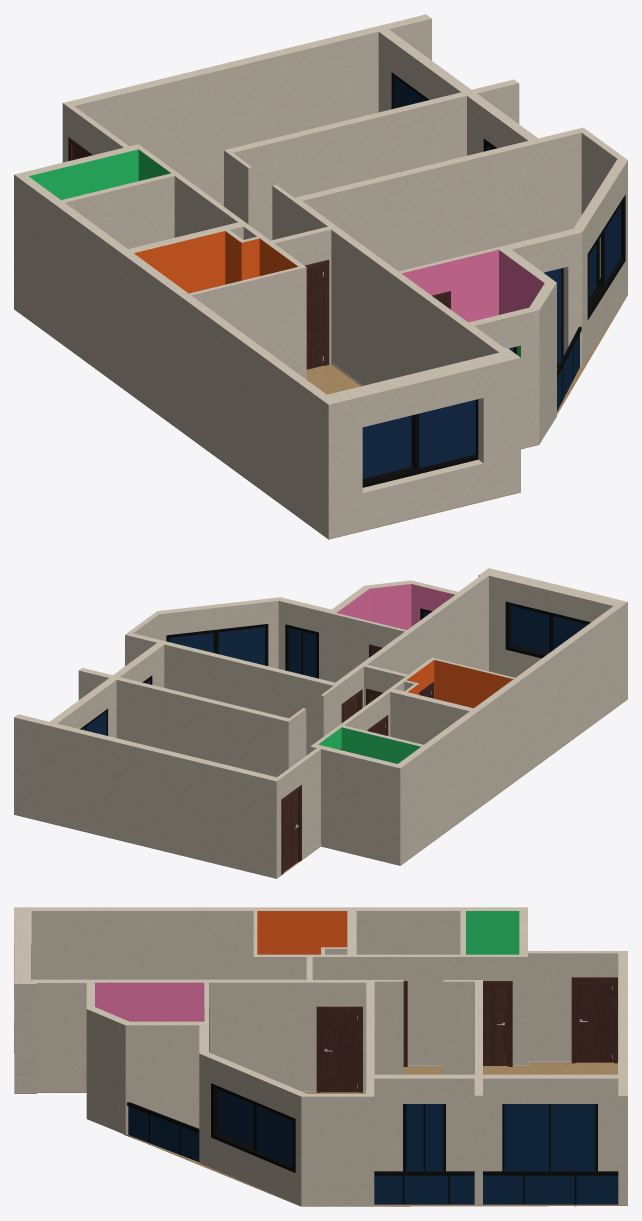
Rendered from Flat04_Zahyia.fbx.
3 renders of one model, top to bottom at view 1: azimuth 30°, elevation 25°; view 2: azimuth 150°, elevation 25°; view 3: azimuth 270°, elevation 25°, orthographic. The views are drawn at different scales.
Visible parts, largest first — view 1: Line005, Object34586, Floor, D2-Door015, Object34593, D2-Frame017, Object34590; view 2: Line005, Object34586, Object34590, D2-Door019, Floor, D2-Frame021; view 3: Line005, Object34586, Object34593, Floor, D2-Door011, Object34580, D2-Door019, D2-Door018, D2-Frame013, D2-Frame021, D2-Frame020, D2-Frame019.
Boxes of the visible parts, x1,y1,x2,y2 form: Line005: (14,14,627,538); Object34586: (362,72,625,487); Floor: (14,204,627,539); D2-Door015: (306,267,323,369); Object34593: (557,326,581,411); D2-Frame017: (305,259,329,365); Object34590: (544,268,563,367); Line005: (14,568,627,878); Object34586: (80,601,590,735); Object34590: (285,624,318,678); D2-Door019: (283,791,298,872); Floor: (14,699,627,878); D2-Frame021: (281,784,301,875); Line005: (14,907,627,1206); Object34586: (31,945,597,1172); Object34593: (124,1102,618,1206); Floor: (14,1062,627,1206); D2-Door011: (322,1011,357,1092); Object34580: (403,1104,445,1171); D2-Door019: (577,982,612,1062); D2-Door018: (483,986,506,1065); D2-Frame013: (316,1006,362,1092); D2-Frame021: (571,977,617,1063); D2-Frame020: (483,981,512,1066); D2-Frame019: (403,981,407,1066).
Size of the model in its own units: 1052 by 288 by 1441.
11 materials, 4 textured.
